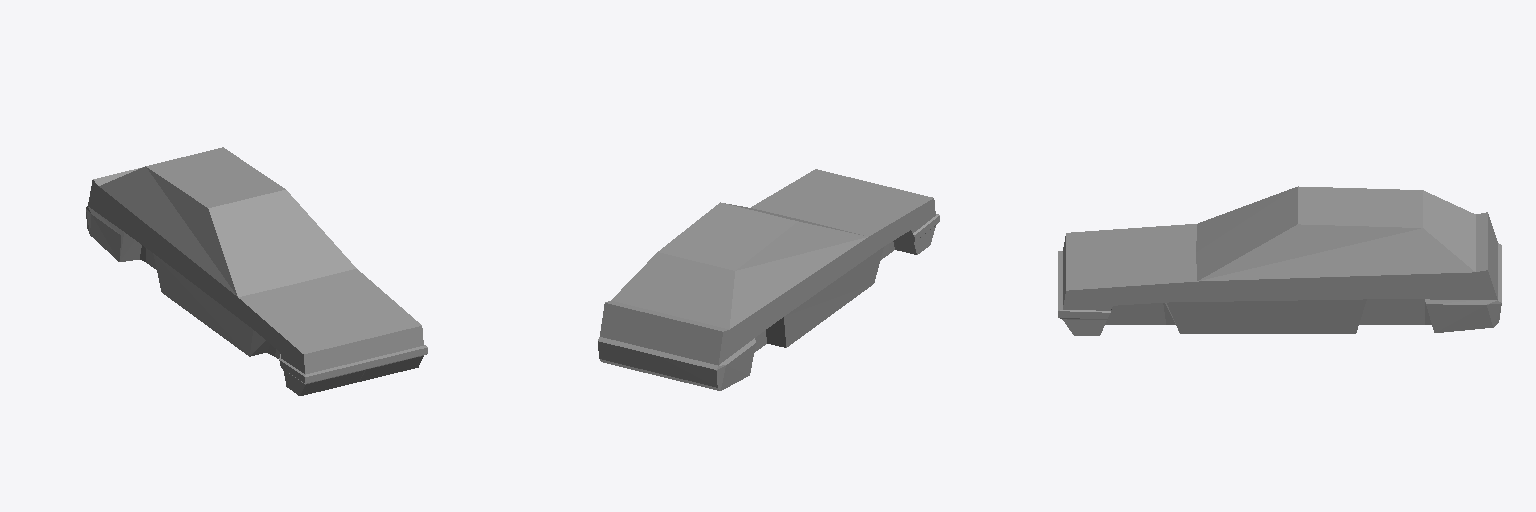
File: Car.obj
3 renders of one model, left to right at view 1: azimuth 30°, elevation 25°; view 2: azimuth 150°, elevation 25°; view 3: azimuth 270°, elevation 25°, orthographic.
Parts seen in each view (by area): view 1: Cube.001; view 2: Cube.001; view 3: Cube.001.
Boxes of the visible parts, box(x1,y1,x2,y2) form: Cube.001: box(86, 147, 427, 395); Cube.001: box(598, 169, 939, 390); Cube.001: box(1058, 186, 1501, 335).
Bounding box in the file's own units: 1.45 × 1.14 × 4.55.